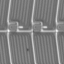dust: (25, 47, 30, 51)
